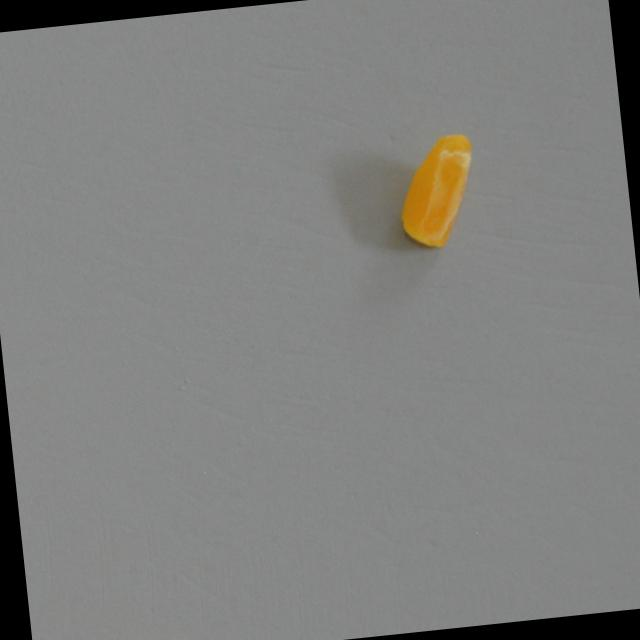pelicula: (393, 127, 490, 256)
